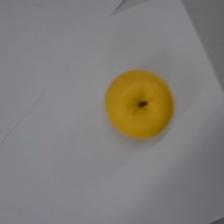yellow: (103, 68, 174, 140)
